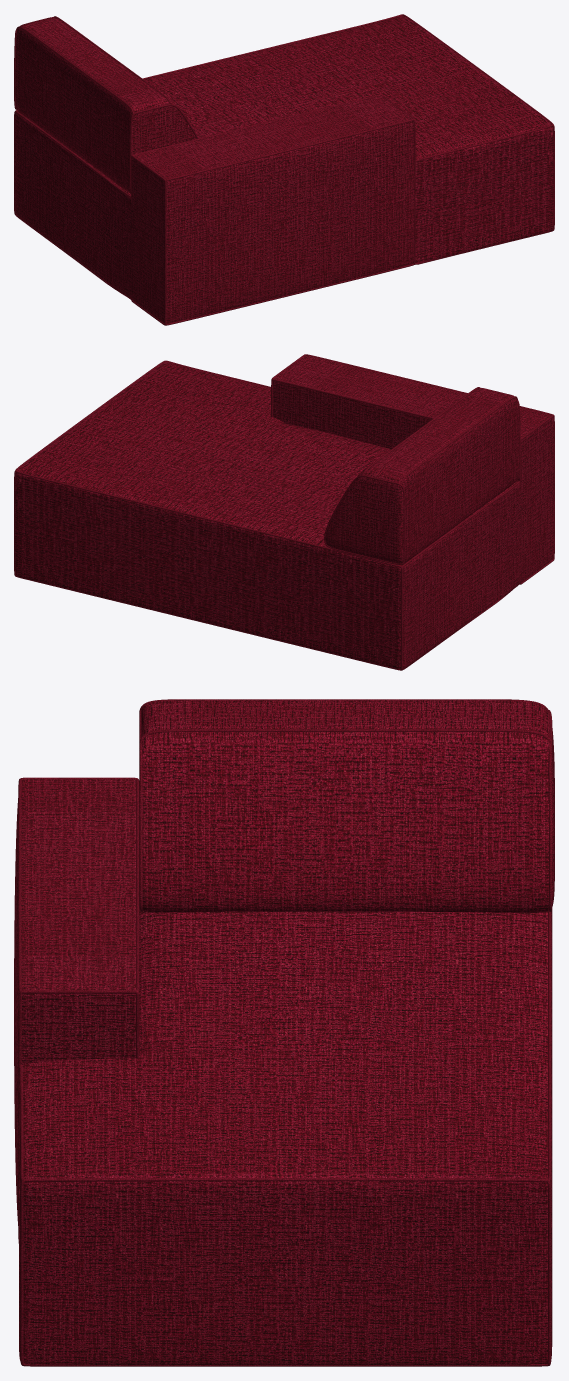
The model's file is longchair_right_130_alpine_sangria.glb.
3 renders of one model, top to bottom at view 1: azimuth 30°, elevation 25°; view 2: azimuth 150°, elevation 25°; view 3: azimuth 270°, elevation 25°, orthographic. The views are drawn at different scales.
Parts seen in each view (by area): view 1: Box095, Box088, Box077, Shape048, Shape044, Shape035; view 2: Box095, Box077, Box088, Shape044, Shape048, Shape035; view 3: Box095, Box077, Box088, Shape044, Shape035, Shape048.
Part boxes in pixels (bbox=[...]): Box095: bbox=[14, 15, 553, 298]; Box088: bbox=[132, 95, 414, 323]; Box077: bbox=[15, 17, 196, 193]; Shape048: bbox=[131, 94, 415, 325]; Shape044: bbox=[15, 14, 554, 299]; Shape035: bbox=[14, 16, 198, 193]; Box095: bbox=[15, 361, 522, 669]; Box077: bbox=[325, 387, 519, 563]; Box088: bbox=[273, 355, 553, 582]; Shape044: bbox=[14, 360, 510, 670]; Shape048: bbox=[271, 354, 554, 584]; Shape035: bbox=[324, 387, 520, 564]; Box095: bbox=[19, 910, 552, 1364]; Box077: bbox=[141, 700, 554, 912]; Box088: bbox=[14, 779, 135, 1225]; Shape044: bbox=[19, 911, 551, 1366]; Shape035: bbox=[139, 699, 552, 912]; Shape048: bbox=[18, 777, 139, 1243].
Size of the model in its own units: 1.75 by 0.8369 by 1.19.
Materials: 2 (2 with a texture image).
